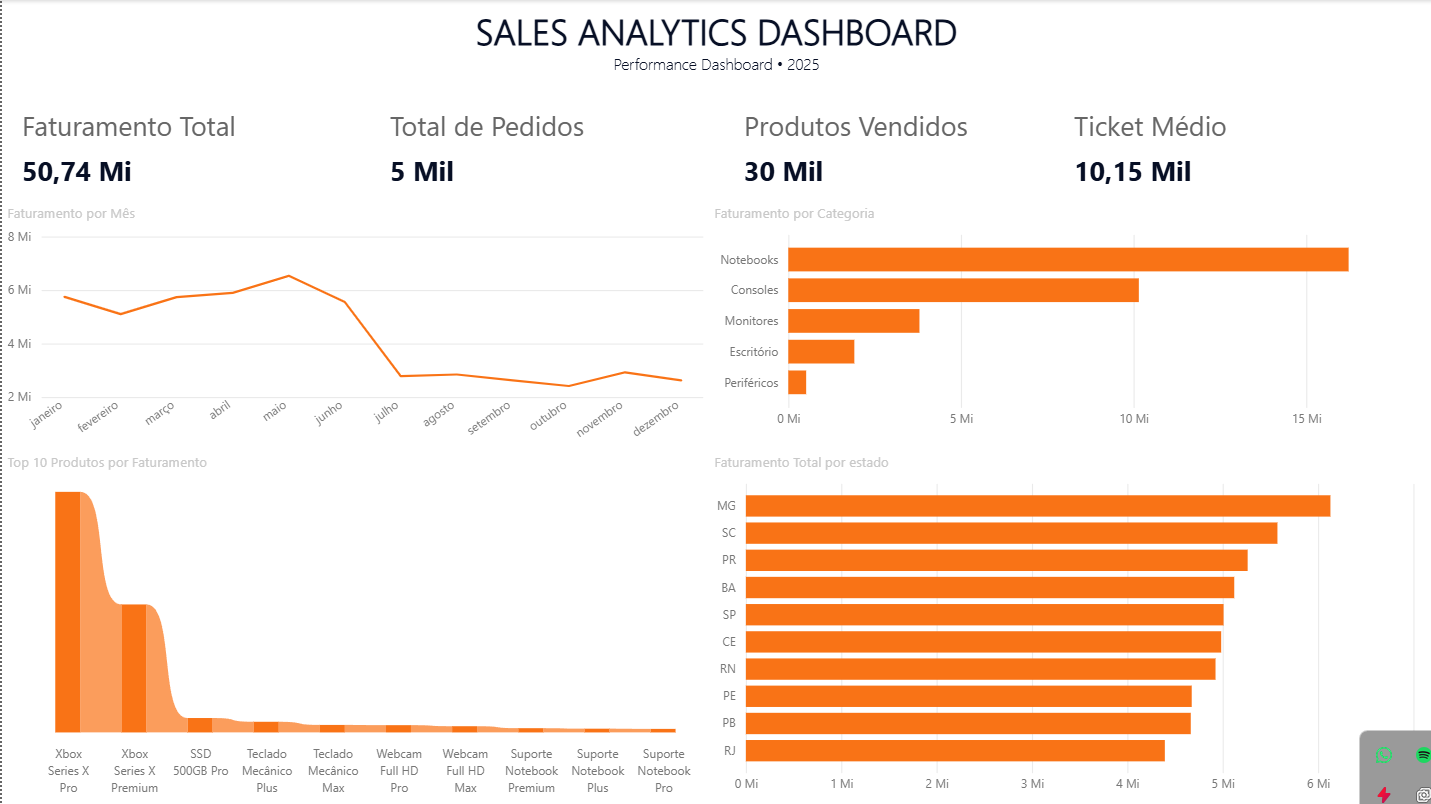

This screenshot's page, from the dashboard's own definition file:
{"tool":"powerbi","page":{"name":"Página 1","canvas":[1280,720],"ordinal":0},"visuals":[{"type":"cardVisual","fields":{"Data":["vendas_detalhadas.Faturamento Total"]},"box":[0,79.7,329.6,102.1],"z":0},{"type":"cardVisual","fields":{"Data":["vendas_detalhadas.Produtos Vendidos"]},"box":[646.8,79.8,295.7,102.1],"z":1000},{"type":"cardVisual","fields":{"Data":["vendas_detalhadas.Ticket Médio"]},"box":[942.1,79.7,337.6,102.1],"z":2000},{"type":"cardVisual","fields":{"Data":["vendas_detalhadas.Total de Pedidos"]},"box":[329.6,79.7,317,102.1],"z":3000},{"type":"textbox","box":[0,0,1279.7,71.6],"z":4000},{"type":"lineChart","title":"Faturamento por Mês","fields":{"Category":["vendas_detalhadas.mes.Variation.Hierarquia de datas.Mês"],"Y":["vendas_detalhadas.Faturamento Total"]},"box":[0,181.9,633.2,222.7],"z":5000},{"type":"ribbonChart","title":"Top 10 Produtos por Faturamento","fields":{"Y":["vendas_detalhadas.Faturamento Total"],"Category":["vendas_detalhadas.nome_produto"]},"box":[0,404.6,633.2,315.1],"z":7000},{"type":"clusteredBarChart","fields":{"Category":["vendas_detalhadas.estado"],"Y":["vendas_detalhadas.Faturamento Total"]},"box":[633.2,404.6,646.8,315.1],"z":7001},{"type":"clusteredBarChart","title":"Faturamento por Categoria","fields":{"Category":["vendas_detalhadas.nome_categoria"],"Y":["vendas_detalhadas.Faturamento Total"]},"box":[633.1,181.8,646.6,223],"z":7002}]}

Visuals, with their boxes in screenshot pixels (x1, y1, x2, y2), scaled from the page's 1280x720 canvas onto the 1431x804 screenshot:
cardVisual - vendas_detalhadas.Faturamento Total: {"x1": 0, "y1": 89, "x2": 368, "y2": 203}
cardVisual - vendas_detalhadas.Produtos Vendidos: {"x1": 723, "y1": 89, "x2": 1054, "y2": 203}
cardVisual - vendas_detalhadas.Ticket Médio: {"x1": 1053, "y1": 89, "x2": 1430, "y2": 203}
cardVisual - vendas_detalhadas.Total de Pedidos: {"x1": 368, "y1": 89, "x2": 723, "y2": 203}
textbox: {"x1": 0, "y1": 0, "x2": 1430, "y2": 80}
"Faturamento por Mês" lineChart: {"x1": 0, "y1": 203, "x2": 708, "y2": 452}
"Top 10 Produtos por Faturamento" ribbonChart: {"x1": 0, "y1": 452, "x2": 708, "y2": 803}
clusteredBarChart - vendas_detalhadas.estado x vendas_detalhadas.Faturamento Total: {"x1": 708, "y1": 452, "x2": 1430, "y2": 803}
"Faturamento por Categoria" clusteredBarChart: {"x1": 708, "y1": 203, "x2": 1430, "y2": 452}
